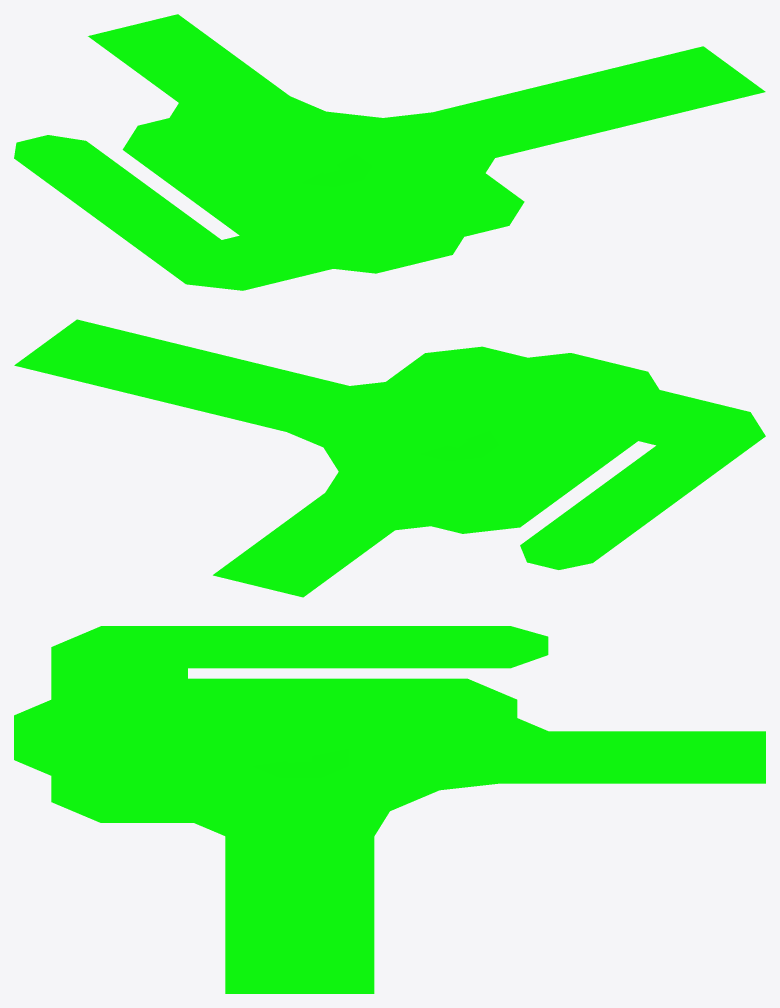
Rendered from s06a_lb3-floor.glb.
3 views of the same model, one above another, from view 1: azimuth 30°, elevation 25°; view 2: azimuth 150°, elevation 25°; view 3: azimuth 270°, elevation 25° (orthographic). The views are drawn at different scales.
Parts seen in each view (by area): view 1: collision_floor-colonly; view 2: collision_floor-colonly; view 3: collision_floor-colonly.
Part boxes in pixels (x1,y1,x2,y2): collision_floor-colonly: (14, 14, 765, 290); collision_floor-colonly: (14, 319, 765, 597); collision_floor-colonly: (14, 626, 765, 993).
Size of the model in its own units: 70 by 0.1016 by 60.5.
